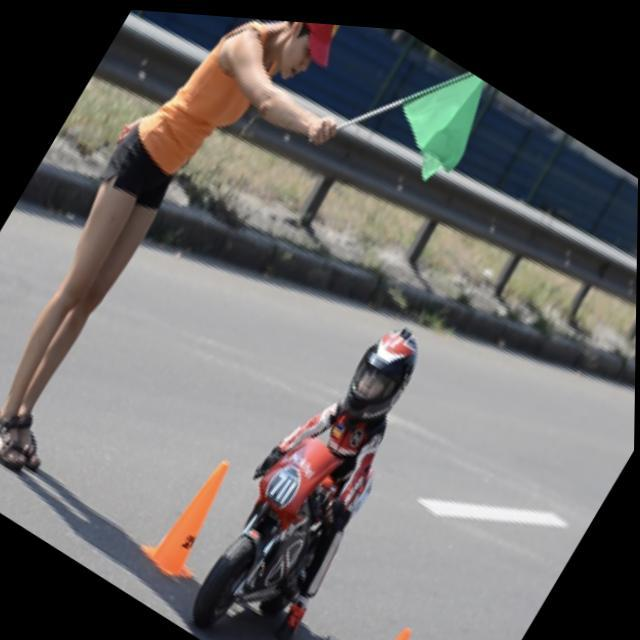Helmet: (332, 312, 424, 422)
